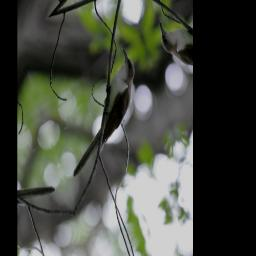Cuckoo: (47, 44, 154, 181)
